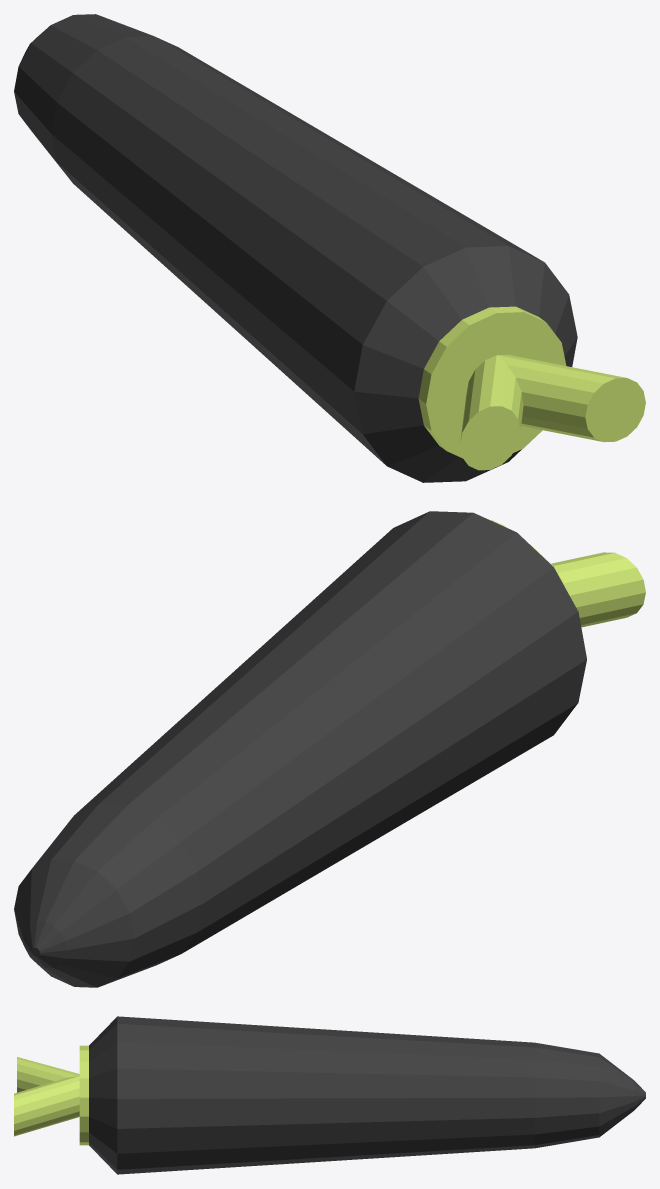
The model's file is fruit02.fbx.
3 views of the same model, one above another, from view 1: azimuth 30°, elevation 25°; view 2: azimuth 150°, elevation 25°; view 3: azimuth 270°, elevation 25° (orthographic). The views are drawn at different scales.
Parts seen in each view (by area): view 1: Cylinder.001; view 2: Cylinder.001; view 3: Cylinder.001.
Boxes of the visible parts, x1=… form: Cylinder.001: x1=14, y1=14, x2=645, y2=482; Cylinder.001: x1=14, y1=511, x2=645, y2=987; Cylinder.001: x1=14, y1=1016, x2=645, y2=1174.
Bounding box in the file's own units: 0.081 × 0.081 × 0.3233.
